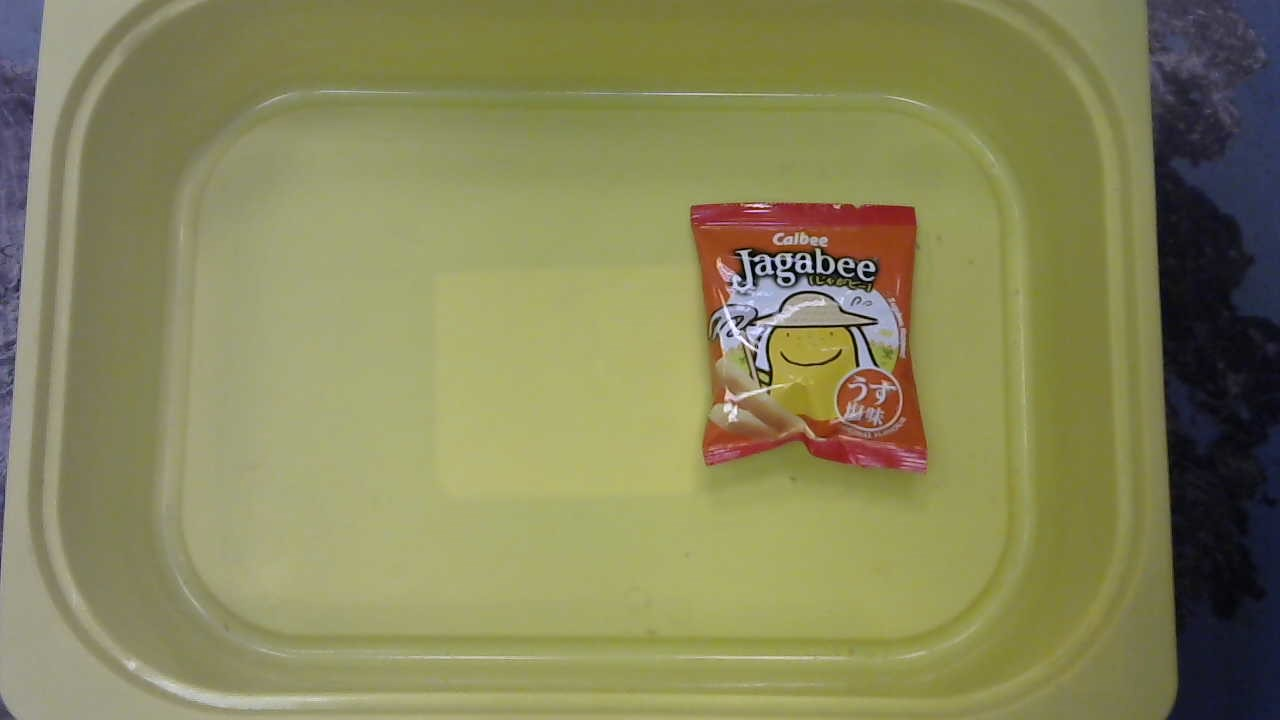JagabeeFarmer: (681, 194, 938, 485)
